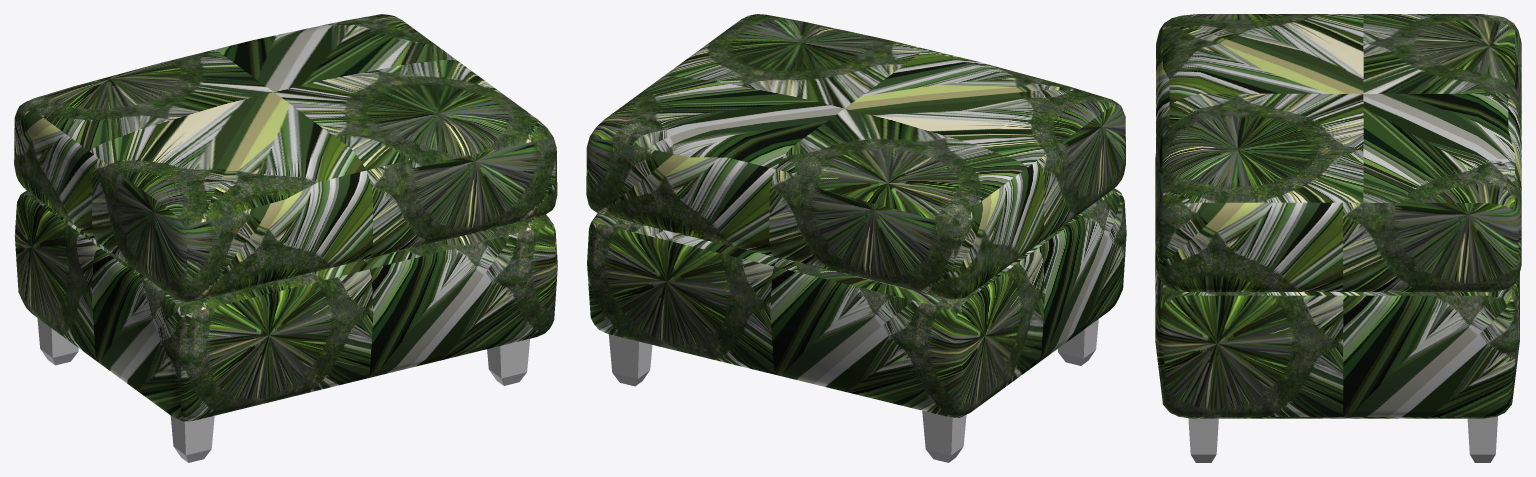
Rendered from Hassock_Guestroom.fbx.
The picture shows the model from 3 angles, left to right: view 1: azimuth 30°, elevation 25°; view 2: azimuth 150°, elevation 25°; view 3: azimuth 270°, elevation 25°; orthographic projection. The views are drawn at different scales.
Parts seen in each view (by area): view 1: Hassoсk_Guestroom; view 2: Hassoсk_Guestroom; view 3: Hassoсk_Guestroom.
Part boxes in pixels (<box>): Hassoсk_Guestroom: <box>14,14,557,462</box>; Hassoсk_Guestroom: <box>586,14,1126,462</box>; Hassoсk_Guestroom: <box>1155,14,1521,462</box>.
Bounding box in the file's own units: 78.73 × 53.28 × 62.17.
